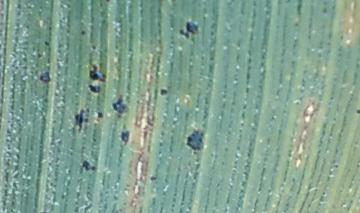tarspot: (73, 105, 92, 133), (110, 93, 130, 119), (184, 129, 205, 153), (176, 19, 199, 39), (87, 62, 107, 81), (80, 158, 98, 174), (36, 70, 52, 84), (86, 82, 102, 96), (119, 129, 132, 144), (158, 87, 168, 96), (95, 111, 105, 120), (147, 175, 158, 182), (42, 39, 51, 47), (353, 107, 360, 116), (89, 44, 98, 50), (79, 29, 87, 35), (103, 1, 112, 4)
